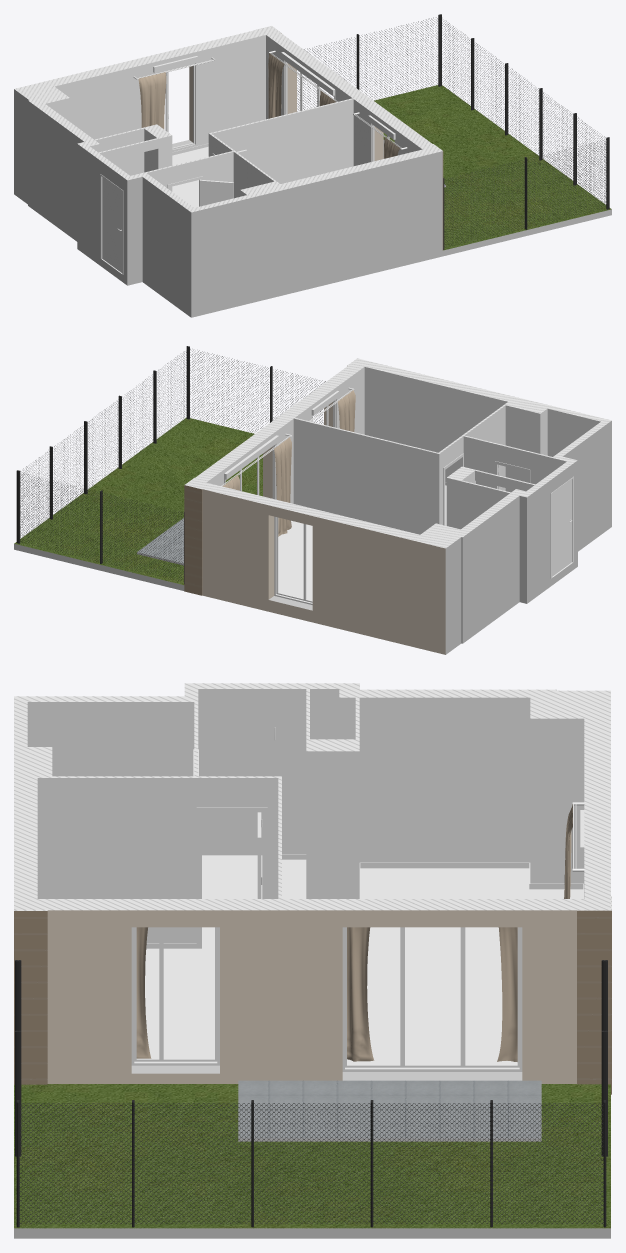
The picture shows the model from 3 angles, top to bottom: view 1: azimuth 30°, elevation 25°; view 2: azimuth 150°, elevation 25°; view 3: azimuth 270°, elevation 25°; orthographic projection. The views are drawn at different scales.
Parts seen in each view (by area): view 1: masonry_exterior, masonry_01, ground_garden_01, fence_square_01, section_face_01, door_01, curtain_02, french_window_double_01, curtain_01, french_window_triple_01, ground_living_01, interior_door_panel_02 (+1 smaller); view 2: masonry_exterior, ground_garden_01, wallpaint_01, masonry_01, fence_square_01, section_face_01, wallpaint_02, ground_living_01, door_01, curtain_01, walltiles_simple_01, ground_terrace_01 (+4 smaller); view 3: masonry_01, masonry_exterior, ground_garden_01, fence_square_01, section_face_01, ground_terrace_01, ground_living_01, door_01, ground_bed_01, walltiles_simple_01, ground_kitchen_01, curtain_01 (+6 smaller).
Boxes of the visible parts, bbox=[...] form: masonry_exterior: bbox=[14, 33, 611, 317]; masonry_01: bbox=[46, 35, 422, 198]; ground_garden_01: bbox=[374, 85, 611, 250]; fence_square_01: bbox=[297, 14, 609, 249]; section_face_01: bbox=[14, 26, 442, 212]; door_01: bbox=[100, 174, 123, 274]; curtain_02: bbox=[138, 72, 166, 128]; french_window_double_01: bbox=[153, 56, 197, 151]; curtain_01: bbox=[268, 53, 335, 118]; french_window_triple_01: bbox=[281, 52, 335, 115]; ground_living_01: bbox=[172, 146, 208, 207]; interior_door_panel_02: bbox=[199, 179, 233, 206]; masonry_exterior: bbox=[14, 402, 611, 654]; ground_garden_01: bbox=[14, 417, 262, 584]; wallpaint_01: bbox=[293, 418, 439, 534]; masonry_01: bbox=[206, 365, 600, 599]; fence_square_01: bbox=[16, 346, 325, 583]; section_face_01: bbox=[185, 358, 611, 548]; wallpaint_02: bbox=[364, 367, 507, 481]; ground_living_01: bbox=[278, 520, 312, 600]; door_01: bbox=[550, 476, 573, 578]; curtain_01: bbox=[222, 437, 291, 536]; walltiles_simple_01: bbox=[505, 423, 540, 492]; ground_terrace_01: bbox=[137, 518, 183, 563]; masonry_01: bbox=[27, 689, 584, 942]; masonry_exterior: bbox=[14, 910, 611, 1238]; ground_garden_01: bbox=[14, 1084, 610, 1228]; fence_square_01: bbox=[15, 960, 607, 1227]; section_face_01: bbox=[14, 683, 611, 910]; ground_terrace_01: bbox=[238, 1080, 541, 1138]; ground_living_01: bbox=[347, 927, 517, 1064]; door_01: bbox=[199, 713, 277, 855]; ground_bed_01: bbox=[145, 948, 214, 1058]; walltiles_simple_01: bbox=[27, 732, 194, 776]; ground_kitchen_01: bbox=[360, 868, 583, 898]; curtain_01: bbox=[347, 927, 517, 1061].
Size of the model in its own units: 11.72 by 2.7 by 7.96.
44 materials, 29 textured.
